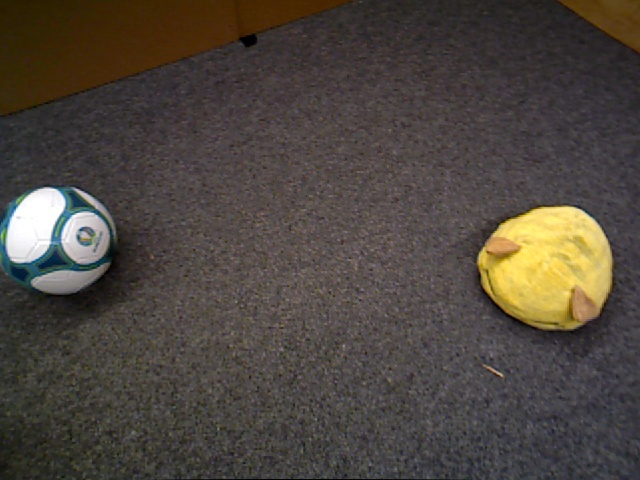grasp: (475, 204, 614, 332)
kick: (1, 186, 117, 297)
